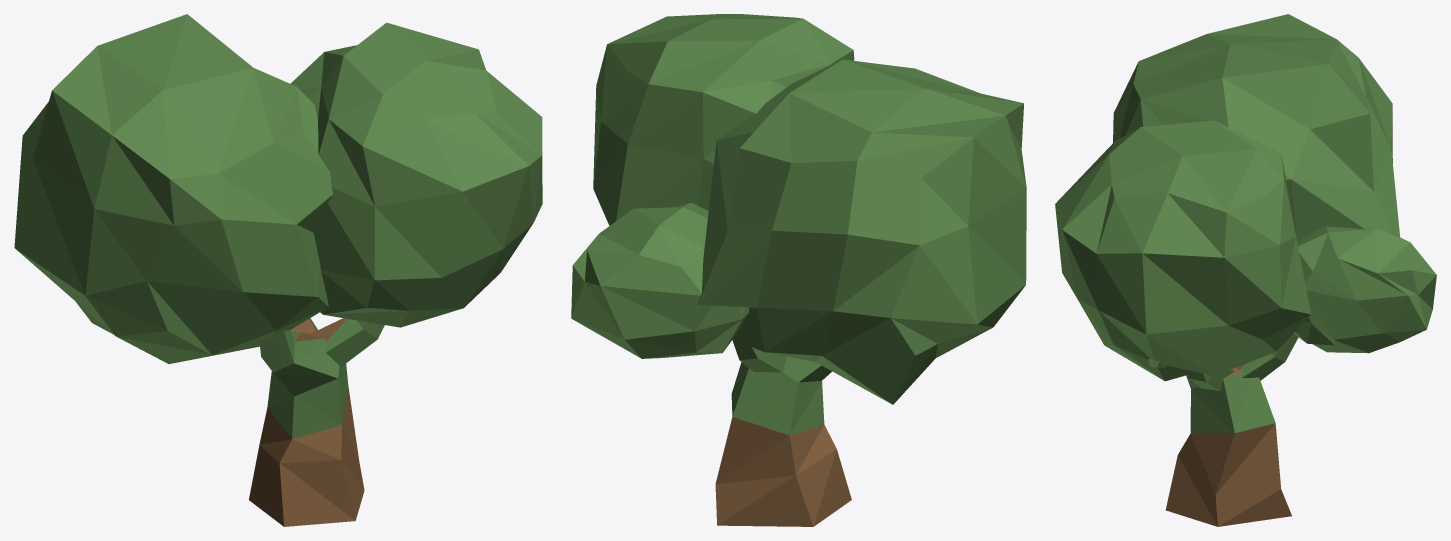
The model's file is tree3d-133.glb.
The picture shows the model from 3 angles, left to right: view 1: azimuth 30°, elevation 25°; view 2: azimuth 150°, elevation 25°; view 3: azimuth 270°, elevation 25°; orthographic projection. The views are drawn at different scales.
Parts seen in each view (by area): view 1: tree3d-133; view 2: tree3d-133; view 3: tree3d-133.
Boxes of the visible parts, x1,y1,x2,y2 form: tree3d-133: (14,14,542,526); tree3d-133: (571,14,1026,526); tree3d-133: (1055,14,1436,526).
Bounding box in the file's own units: 0.9838 × 1 × 0.839.
